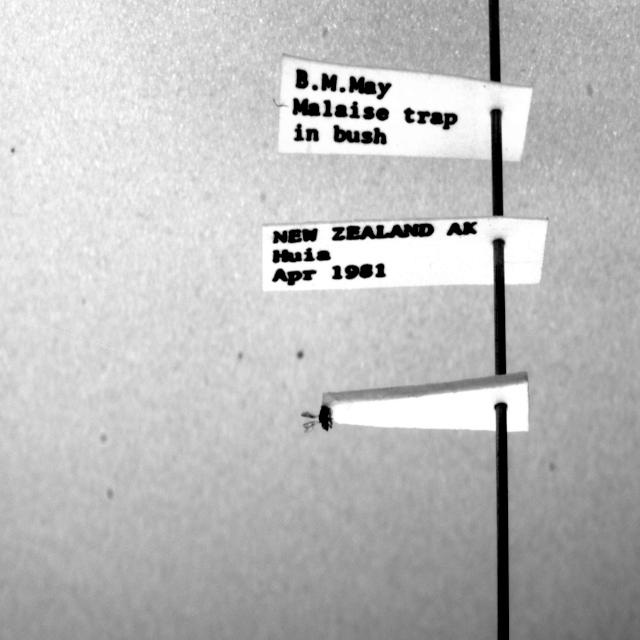typed_label: (279, 54, 532, 161), (262, 216, 548, 291)
